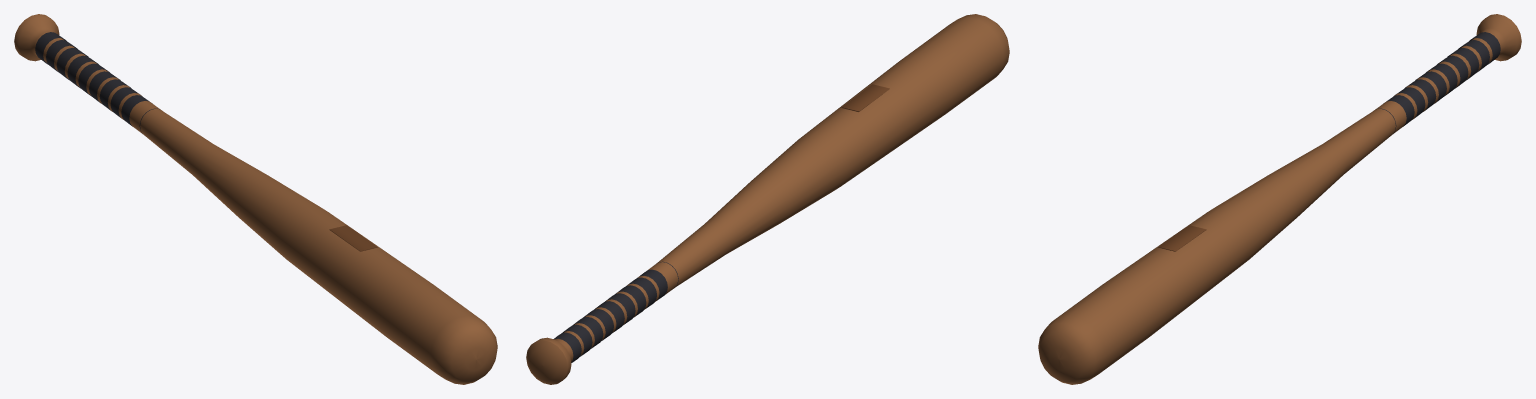
Rendered from bat.fbx.
3 renders of one model, left to right at view 1: azimuth 30°, elevation 25°; view 2: azimuth 150°, elevation 25°; view 3: azimuth 330°, elevation 25°, orthographic.
Parts seen in each view (by area): view 1: Body.001; view 2: Body.001; view 3: Body.001.
Part boxes in pixels (left/top/right/bottom): Body.001: left=14, top=14, right=497, bottom=384; Body.001: left=526, top=14, right=1009, bottom=384; Body.001: left=1038, top=14, right=1521, bottom=384.
Size of the model in its own units: 6.9 by 6.82 by 87.
